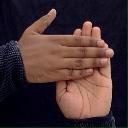hand: (17, 9, 114, 83), (56, 21, 113, 119)
